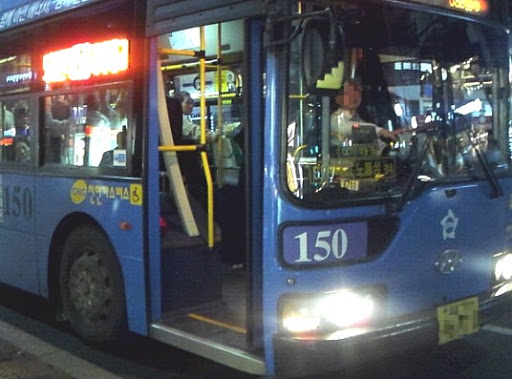entrance: (146, 18, 258, 356)
